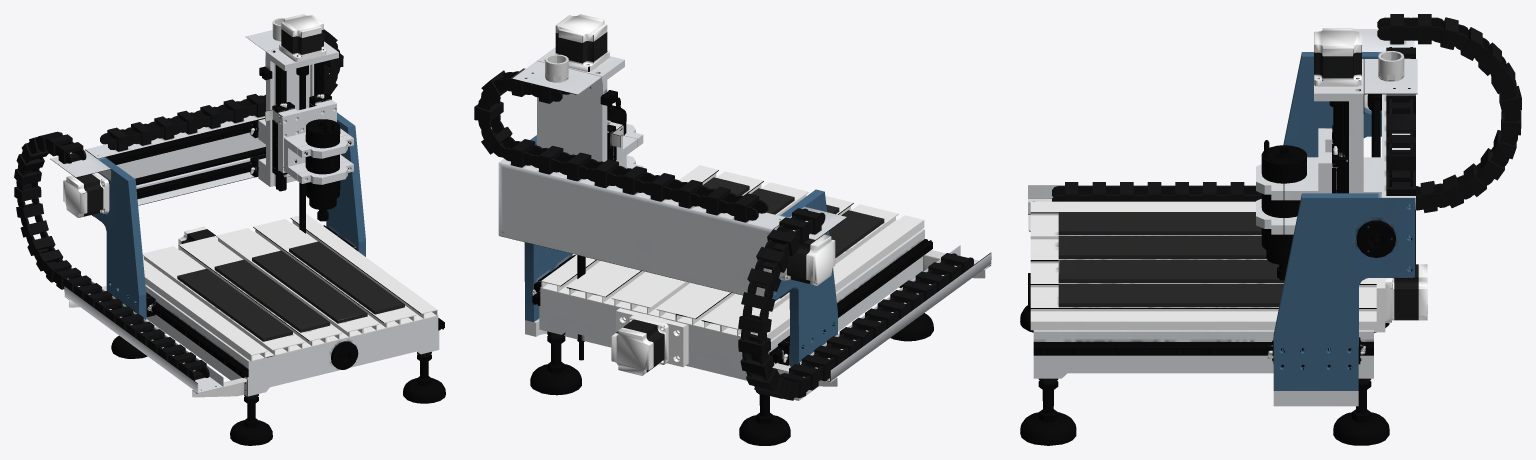
3 renders of one model, left to right at view 1: azimuth 30°, elevation 25°; view 2: azimuth 150°, elevation 25°; view 3: azimuth 270°, elevation 25°, orthographic. The views are drawn at different scales.
Visible parts, largest first — view 1: bake; view 2: bake; view 3: bake.
Part boxes in pixels (x1,y1,x2,y2): bake: (14,14,445,445); bake: (474,14,991,445); bake: (1020,14,1521,445).
Size of the model in its own units: 7.54 by 7.51 by 8.79.
1 material, 1 textured.
